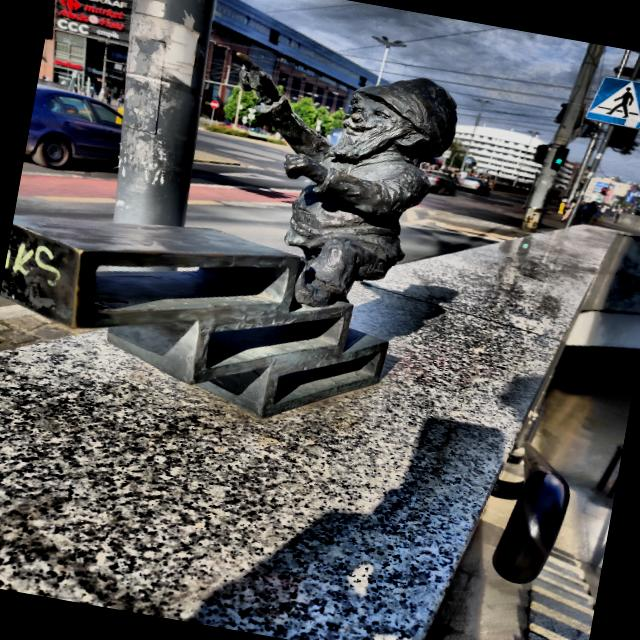Elementek: (2, 55, 456, 417)
